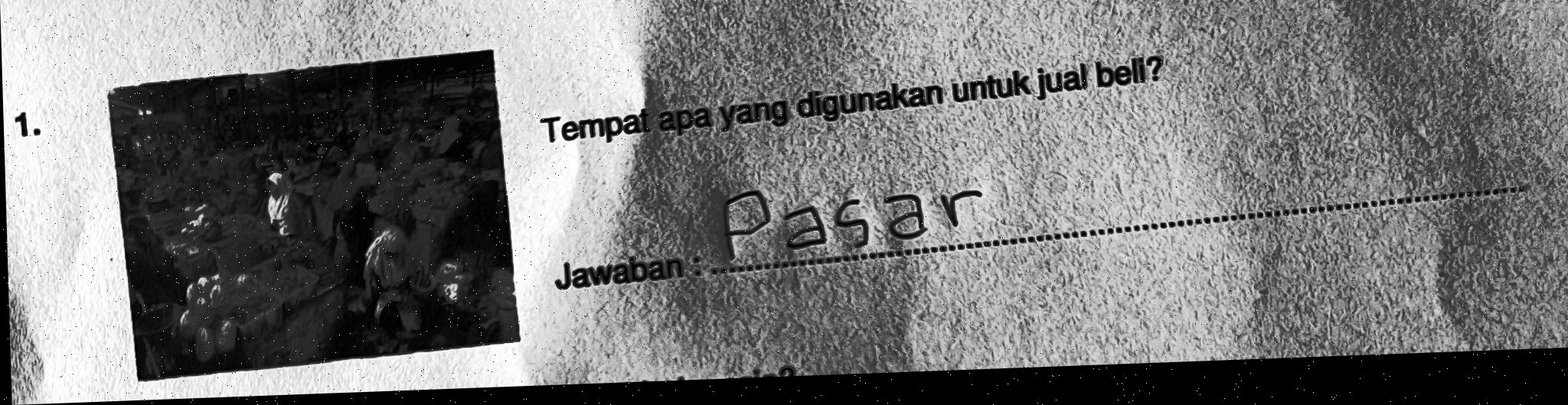jawaban: (712, 182, 990, 264)
